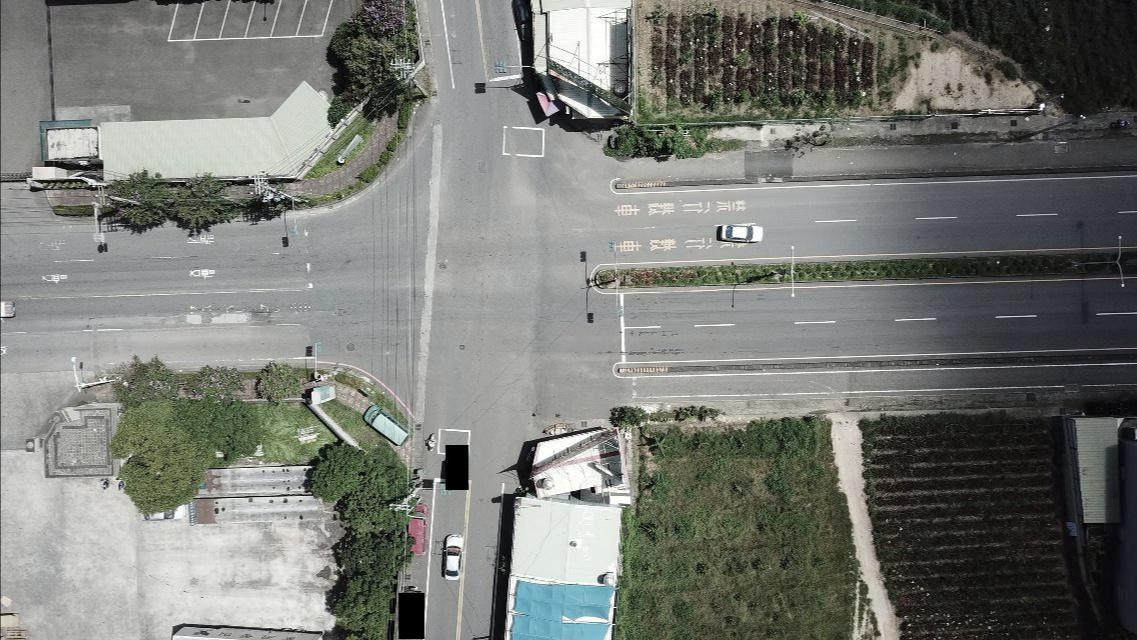vehicle: (361, 405, 409, 446), (406, 503, 432, 560), (134, 501, 186, 524), (442, 533, 466, 582), (715, 222, 764, 242), (514, 0, 533, 44)
